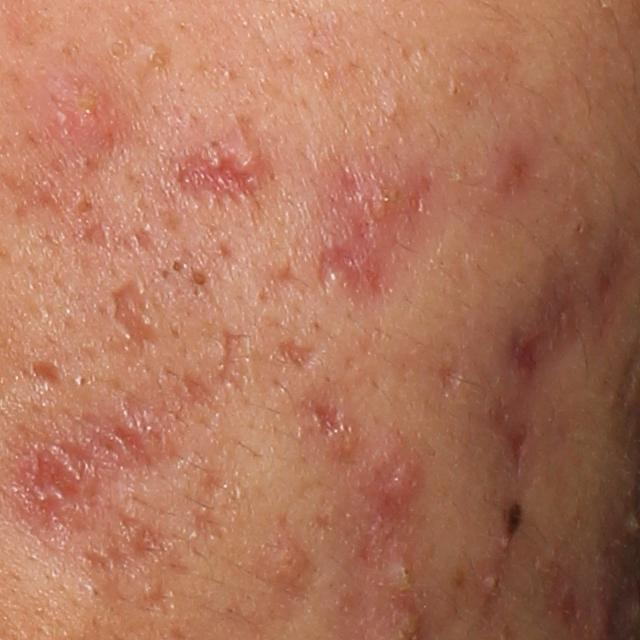atrophic_scar: (4, 329, 253, 535), (500, 196, 633, 484), (235, 161, 444, 311), (158, 113, 291, 243), (95, 275, 169, 355), (81, 513, 163, 569), (299, 385, 357, 451), (273, 330, 334, 367), (422, 352, 467, 395), (132, 576, 177, 616), (194, 503, 230, 540), (26, 360, 68, 391)
comedo: (104, 38, 132, 61), (142, 51, 173, 71), (381, 96, 406, 119), (170, 259, 187, 273)
nevus: (504, 501, 526, 545)
papule: (376, 455, 416, 520), (260, 538, 317, 583)
pustule: (376, 541, 422, 598), (478, 569, 503, 591)
